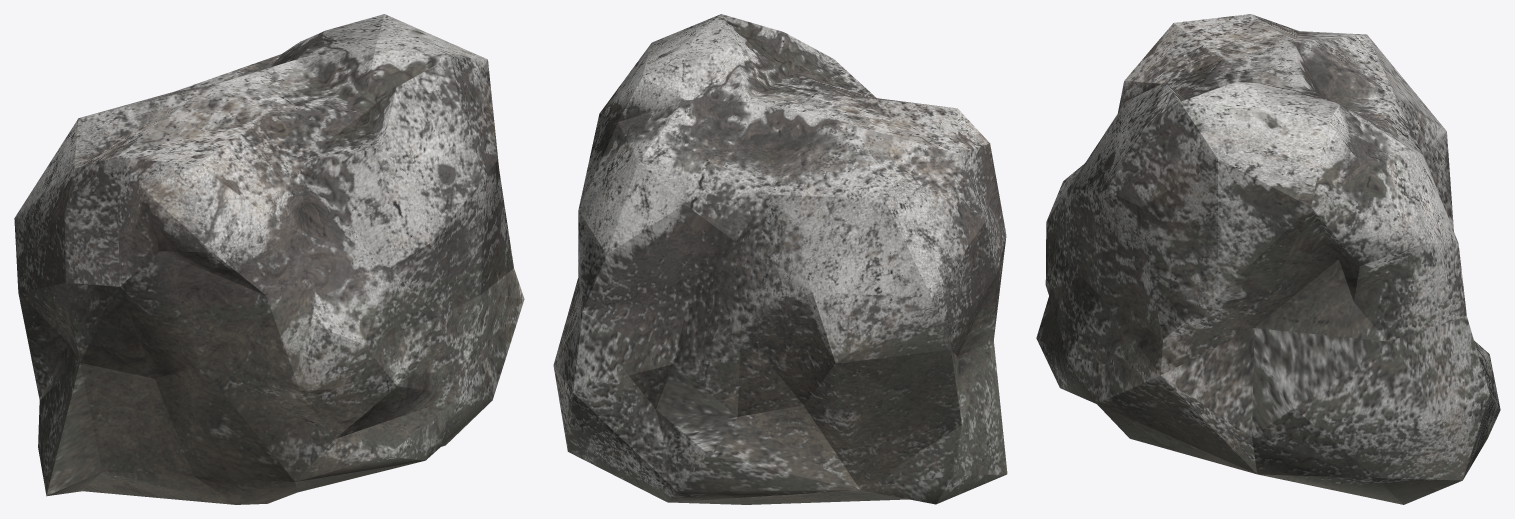
File: rock1_LOD2.fbx
3 views of the same model, side by side, from view 1: azimuth 30°, elevation 25°; view 2: azimuth 150°, elevation 25°; view 3: azimuth 270°, elevation 25° (orthographic). The views are drawn at different scales.
Visible parts, largest first — view 1: rock1; view 2: rock1; view 3: rock1.
Part boxes in pixels (<box>): rock1: <box>14,14,524,504</box>; rock1: <box>553,14,1007,504</box>; rock1: <box>1036,14,1500,504</box>.
Bounding box in the file's own units: 7.92 × 7.57 × 7.46.
